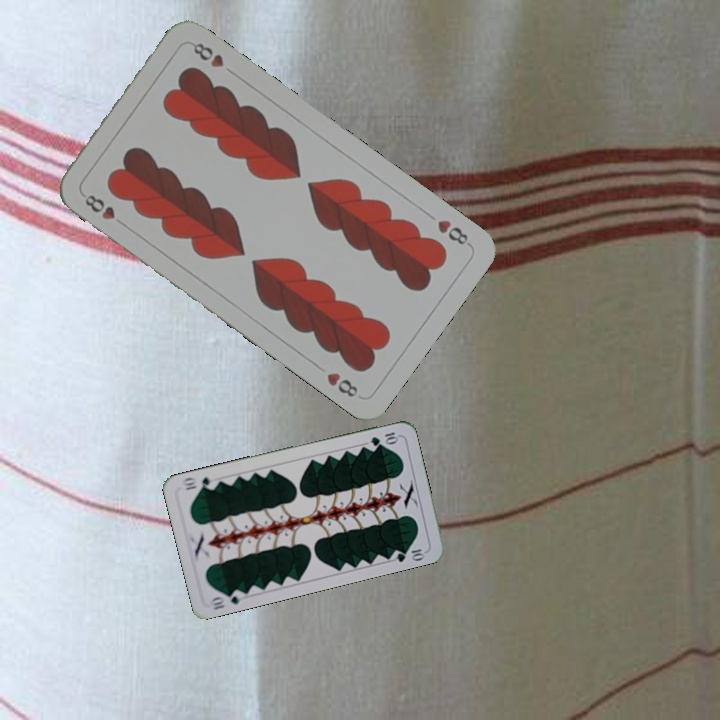G10: (206, 586, 247, 613), (366, 428, 401, 448)
H8: (433, 215, 474, 249), (80, 190, 118, 223)
